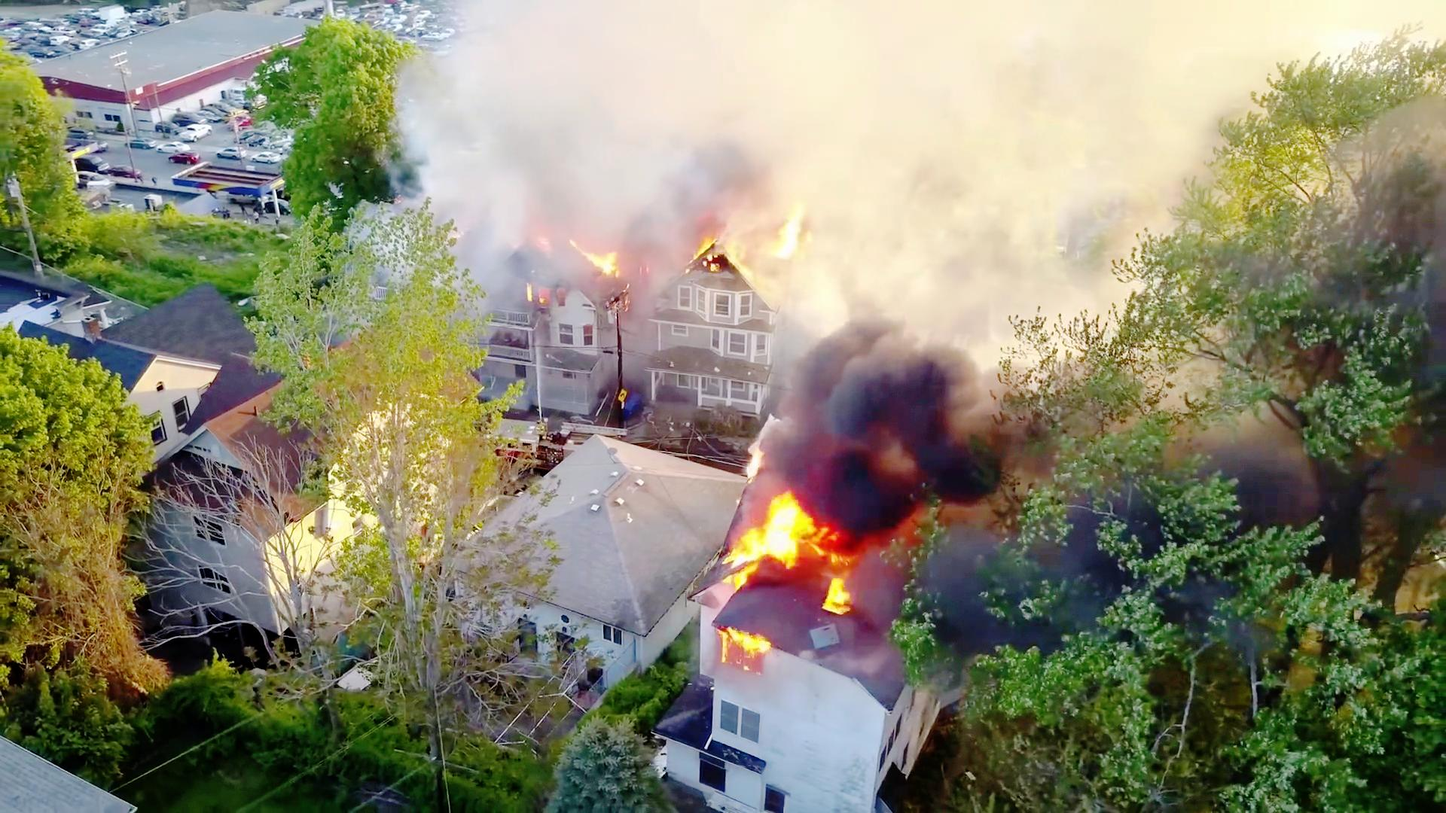fire: (707, 484, 825, 590)
smoke: (774, 300, 981, 511)
